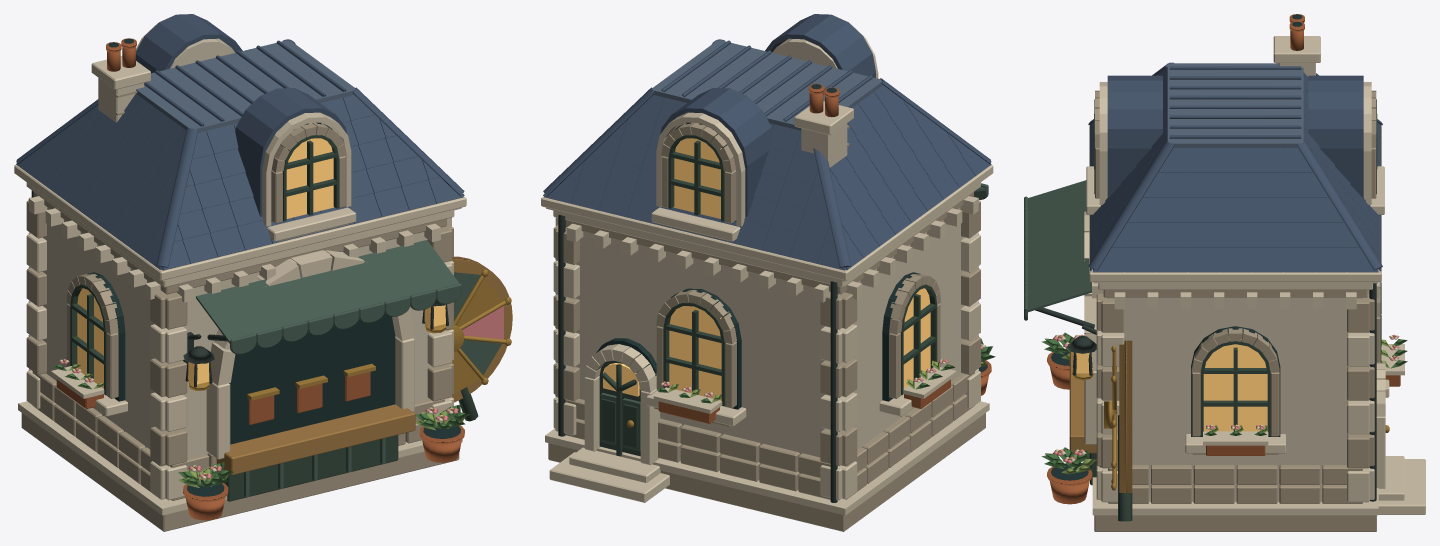
3 views of the same model, side by side, from view 1: azimuth 30°, elevation 25°; view 2: azimuth 150°, elevation 25°; view 3: azimuth 270°, elevation 25° (orthographic).
Parts seen in each view (by area): view 1: classic_chance_wheel_geometry, classic_chance_wheel_geometry ceramic, classic_chance_wheel_rotor_geometry; view 2: classic_chance_wheel_geometry, classic_chance_wheel_geometry ceramic; view 3: classic_chance_wheel_geometry, classic_chance_wheel_geometry ceramic, classic_chance_wheel_rotor_geometry.
Boxes of the visible parts, x1=… form: classic_chance_wheel_geometry: x1=14, y1=25, x2=478, y2=531; classic_chance_wheel_geometry ceramic: x1=16, y1=14, x2=464, y2=270; classic_chance_wheel_rotor_geometry: x1=446, y1=256, x2=512, y2=402; classic_chance_wheel_geometry: x1=541, y1=25, x2=995, y2=531; classic_chance_wheel_geometry ceramic: x1=543, y1=14, x2=991, y2=270; classic_chance_wheel_geometry: x1=1024, y1=14, x2=1425, y2=531; classic_chance_wheel_geometry ceramic: x1=1088, y1=62, x2=1382, y2=272; classic_chance_wheel_rotor_geometry: x1=1104, y1=340, x2=1132, y2=492.
Size of the model in its own units: 1.04 by 1.02 by 0.9351.
